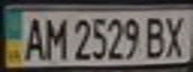2: (69, 15, 93, 61), (106, 15, 127, 61)
5: (90, 15, 109, 62)
9: (121, 15, 145, 61)
A: (21, 14, 48, 61)
B: (142, 13, 172, 60)
M: (39, 14, 69, 61)
X: (160, 11, 193, 58)
